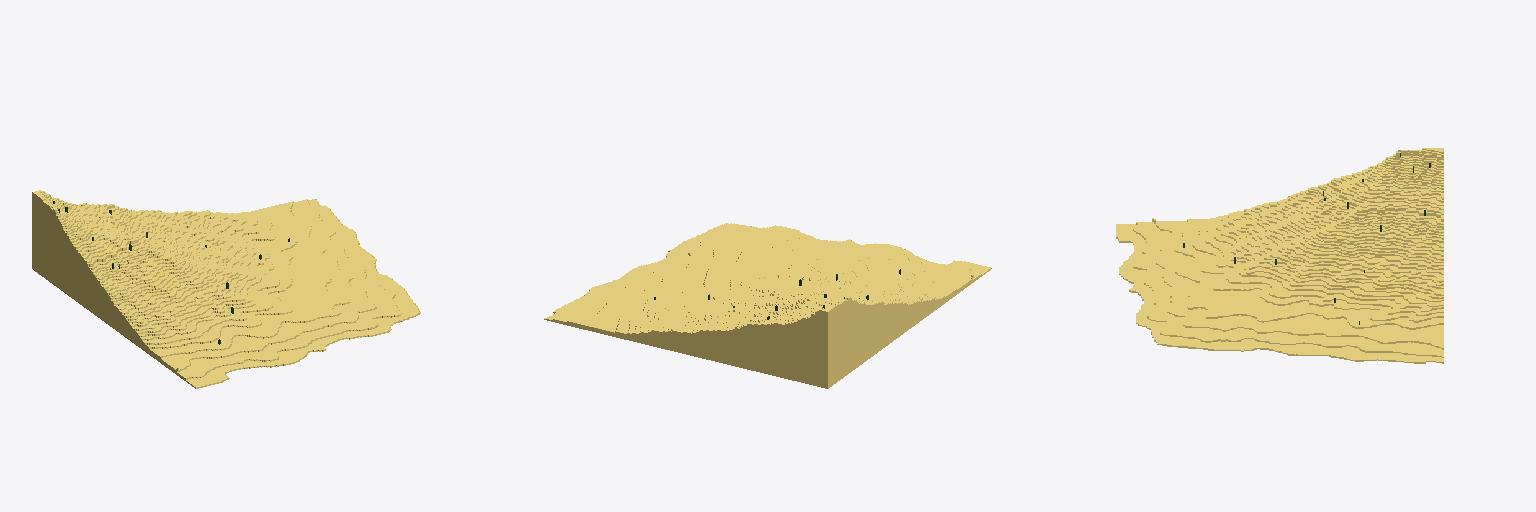
3 views of the same model, side by side, from view 1: azimuth 30°, elevation 25°; view 2: azimuth 150°, elevation 25°; view 3: azimuth 270°, elevation 25° (orthographic).
Parts seen in each view (by area): view 1: object 1; view 2: object 1; view 3: object 1.
Boxes of the visible parts, x1=… form: object 1: x1=32, y1=190, x2=420, y2=388; object 1: x1=544, y1=223, x2=991, y2=388; object 1: x1=1116, y1=148, x2=1443, y2=363.
Size of the model in its own units: 20 by 5.2 by 20.
1 materials, 1 textured.